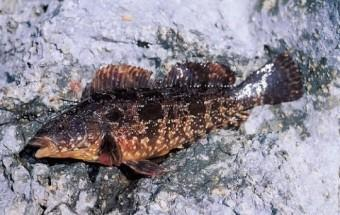fish: (30, 52, 302, 174)
